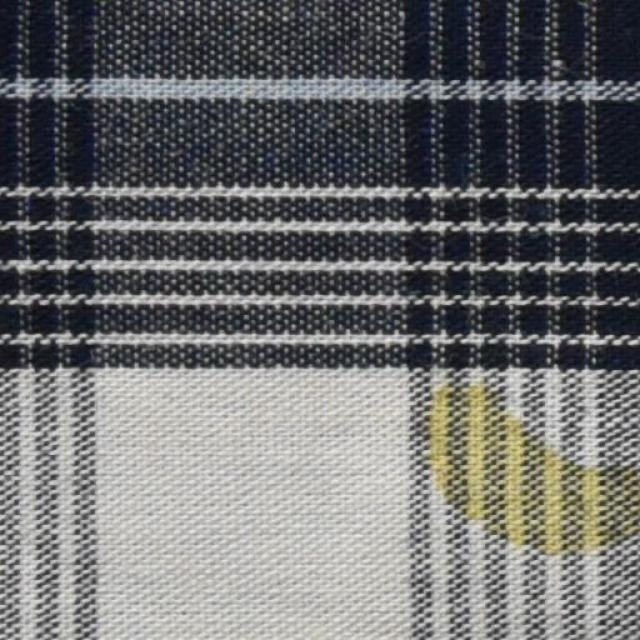Stain: (422, 379, 639, 577)
